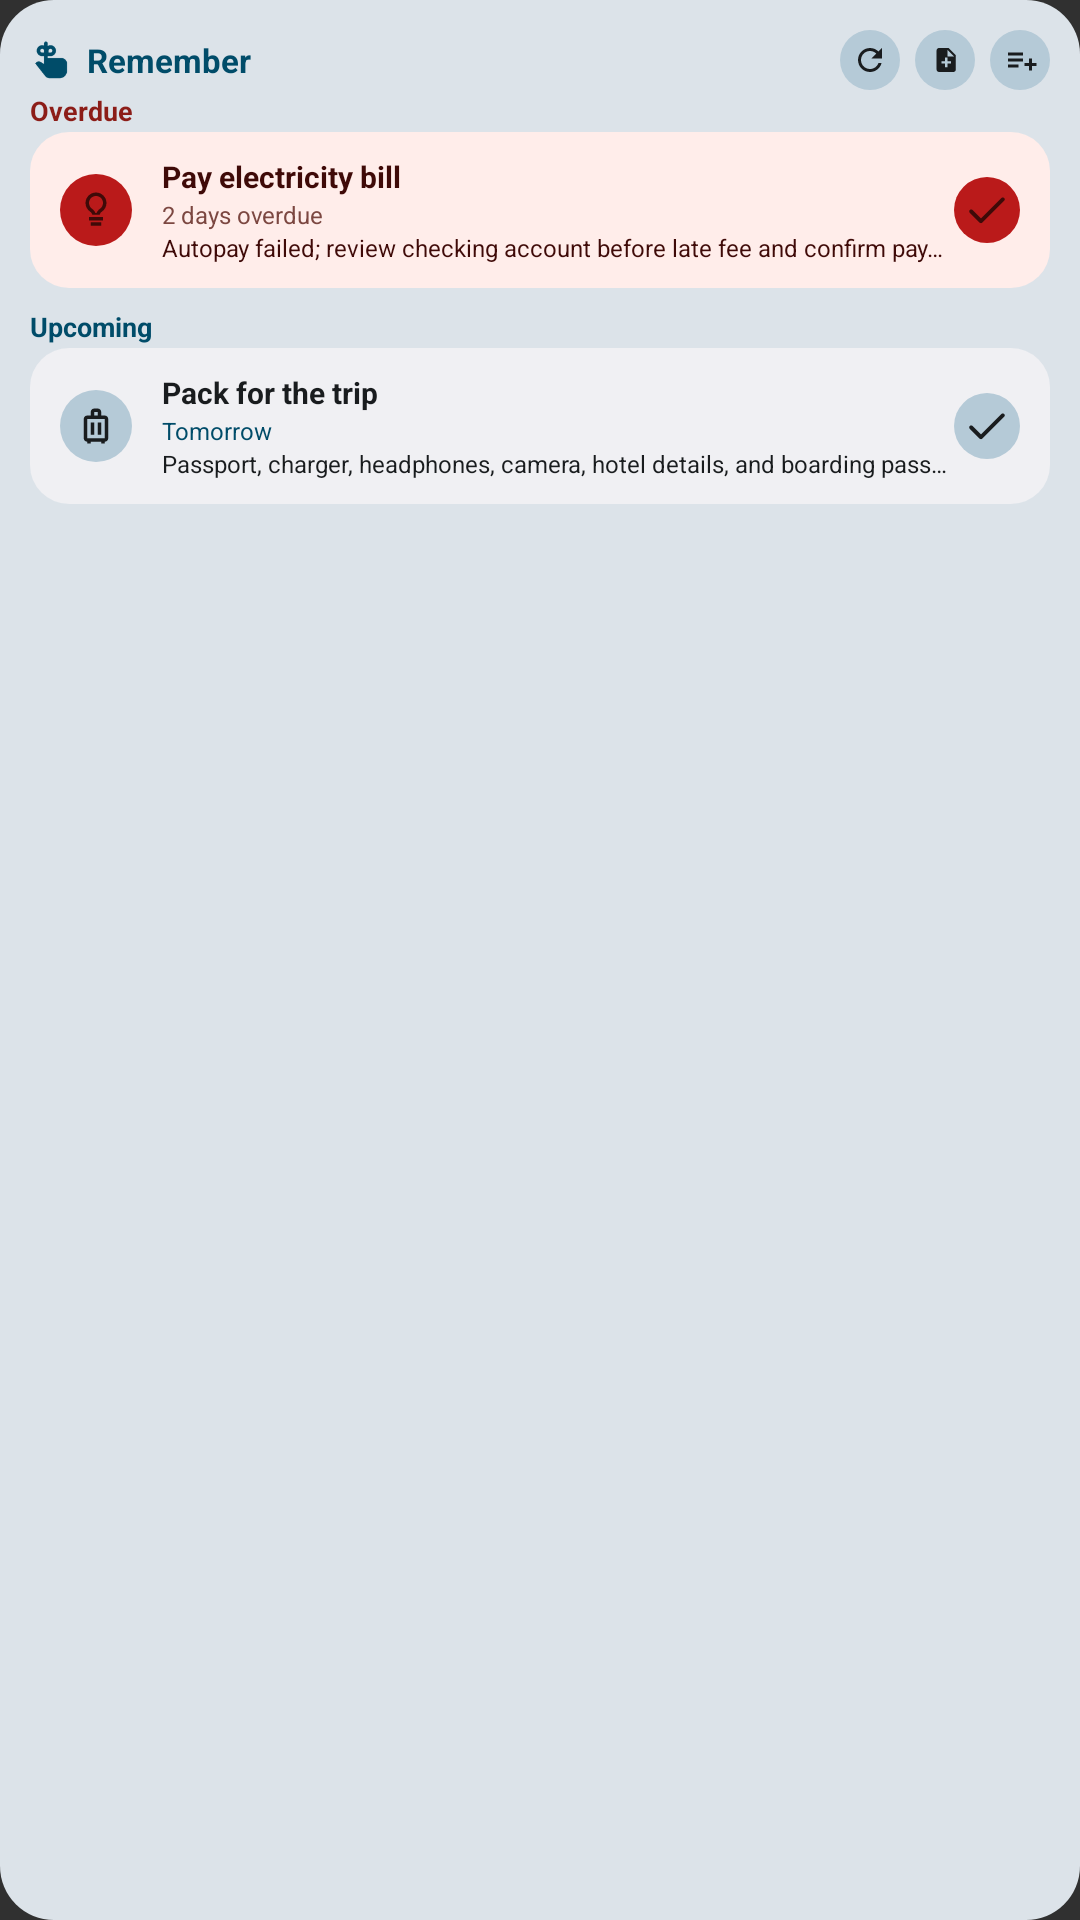

Where icons sit on this 1080*1920 app screen, as (x1, y1, x2, y2):
Create new list: (990, 30, 1050, 90)
Create new note: (915, 30, 975, 90)
Mark done: (954, 177, 1020, 243), (954, 393, 1020, 459)
Refresh widget: (840, 30, 900, 90)
widget lightbulb: (60, 174, 132, 246)
widget luggage: (60, 390, 132, 462)
